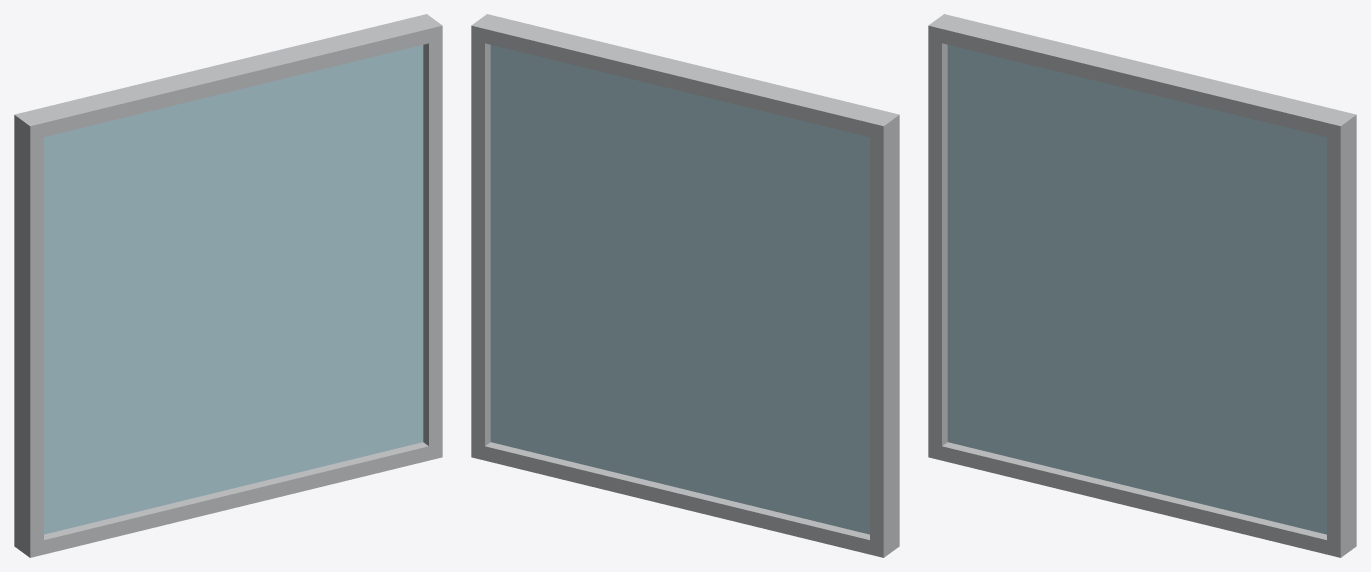
File: opening.window.fixed_1500x1500.glb
3 views of the same model, side by side, from view 1: azimuth 30°, elevation 25°; view 2: azimuth 150°, elevation 25°; view 3: azimuth 330°, elevation 25° (orthographic).
Parts seen in each view (by area): view 1: glazing__glass, frame__aluminium; view 2: glazing__glass, frame__aluminium; view 3: glazing__glass, frame__aluminium.
Part boxes in pixels (x1,y1,x2,y2): glazing__glass: (44, 45, 423, 534); frame__aluminium: (14, 14, 442, 557); glazing__glass: (490, 45, 869, 534); frame__aluminium: (471, 14, 899, 557); glazing__glass: (947, 45, 1326, 534); frame__aluminium: (928, 14, 1356, 557).
Size of the model in its own units: 1.5 by 1.5 by 0.1.
